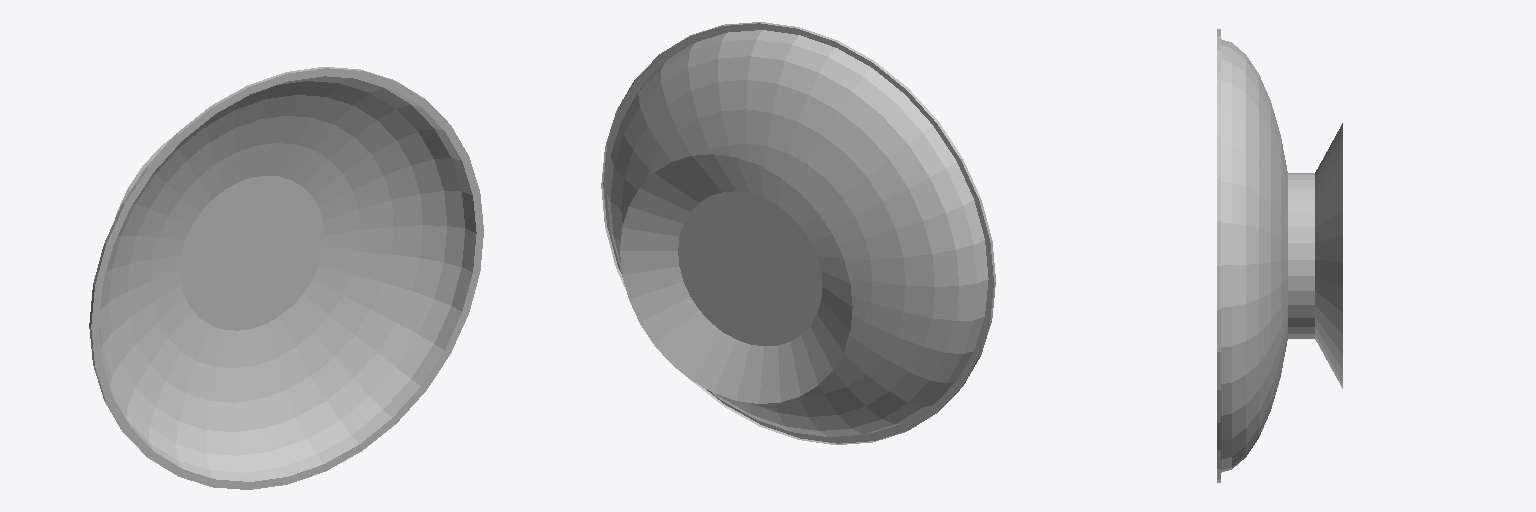
The model's file is Cuenc.obj.
The picture shows the model from 3 angles: view 1: azimuth 30°, elevation 25°; view 2: azimuth 150°, elevation 25°; view 3: azimuth 270°, elevation 25°; orthographic projection.
Visible parts, largest first — view 1: Cuenc_Sphere; view 2: Cuenc_Sphere; view 3: Cuenc_Sphere.
Part boxes in pixels (x1,y1,x2,y2): Cuenc_Sphere: (89,67,483,489); Cuenc_Sphere: (601,22,995,444); Cuenc_Sphere: (1217,29,1342,482).
Size of the model in its own units: 1.15 by 1.15 by 0.3211.